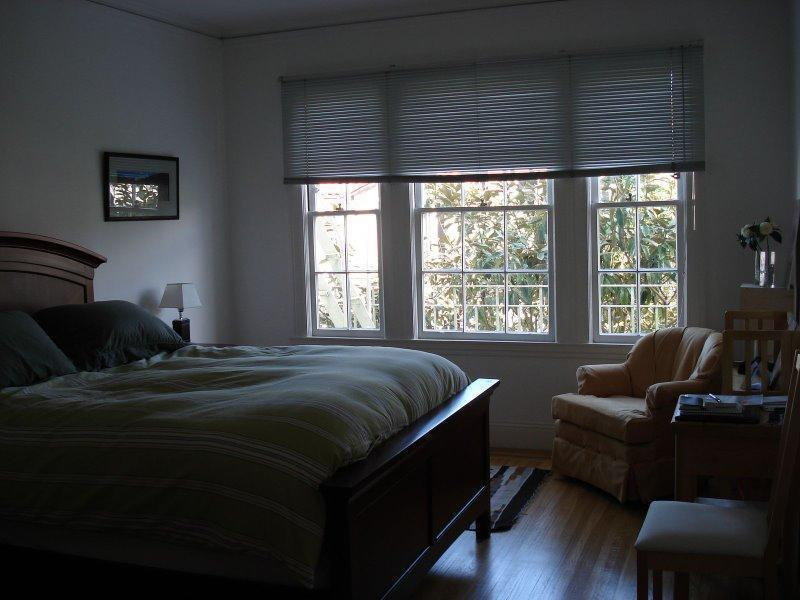Cama: (3, 243, 500, 587)
Ventana: (394, 158, 568, 346), (281, 165, 394, 347), (576, 165, 689, 345)
